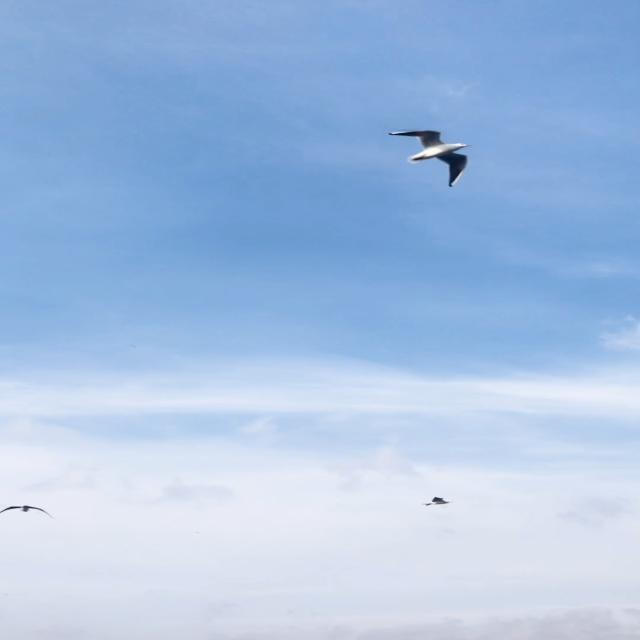bird: (386, 128, 471, 188), (0, 503, 55, 518), (422, 493, 454, 509)
